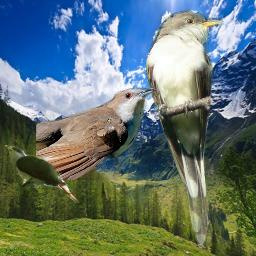Cuckoo: (146, 9, 224, 250), (36, 88, 156, 180), (4, 145, 81, 203)
